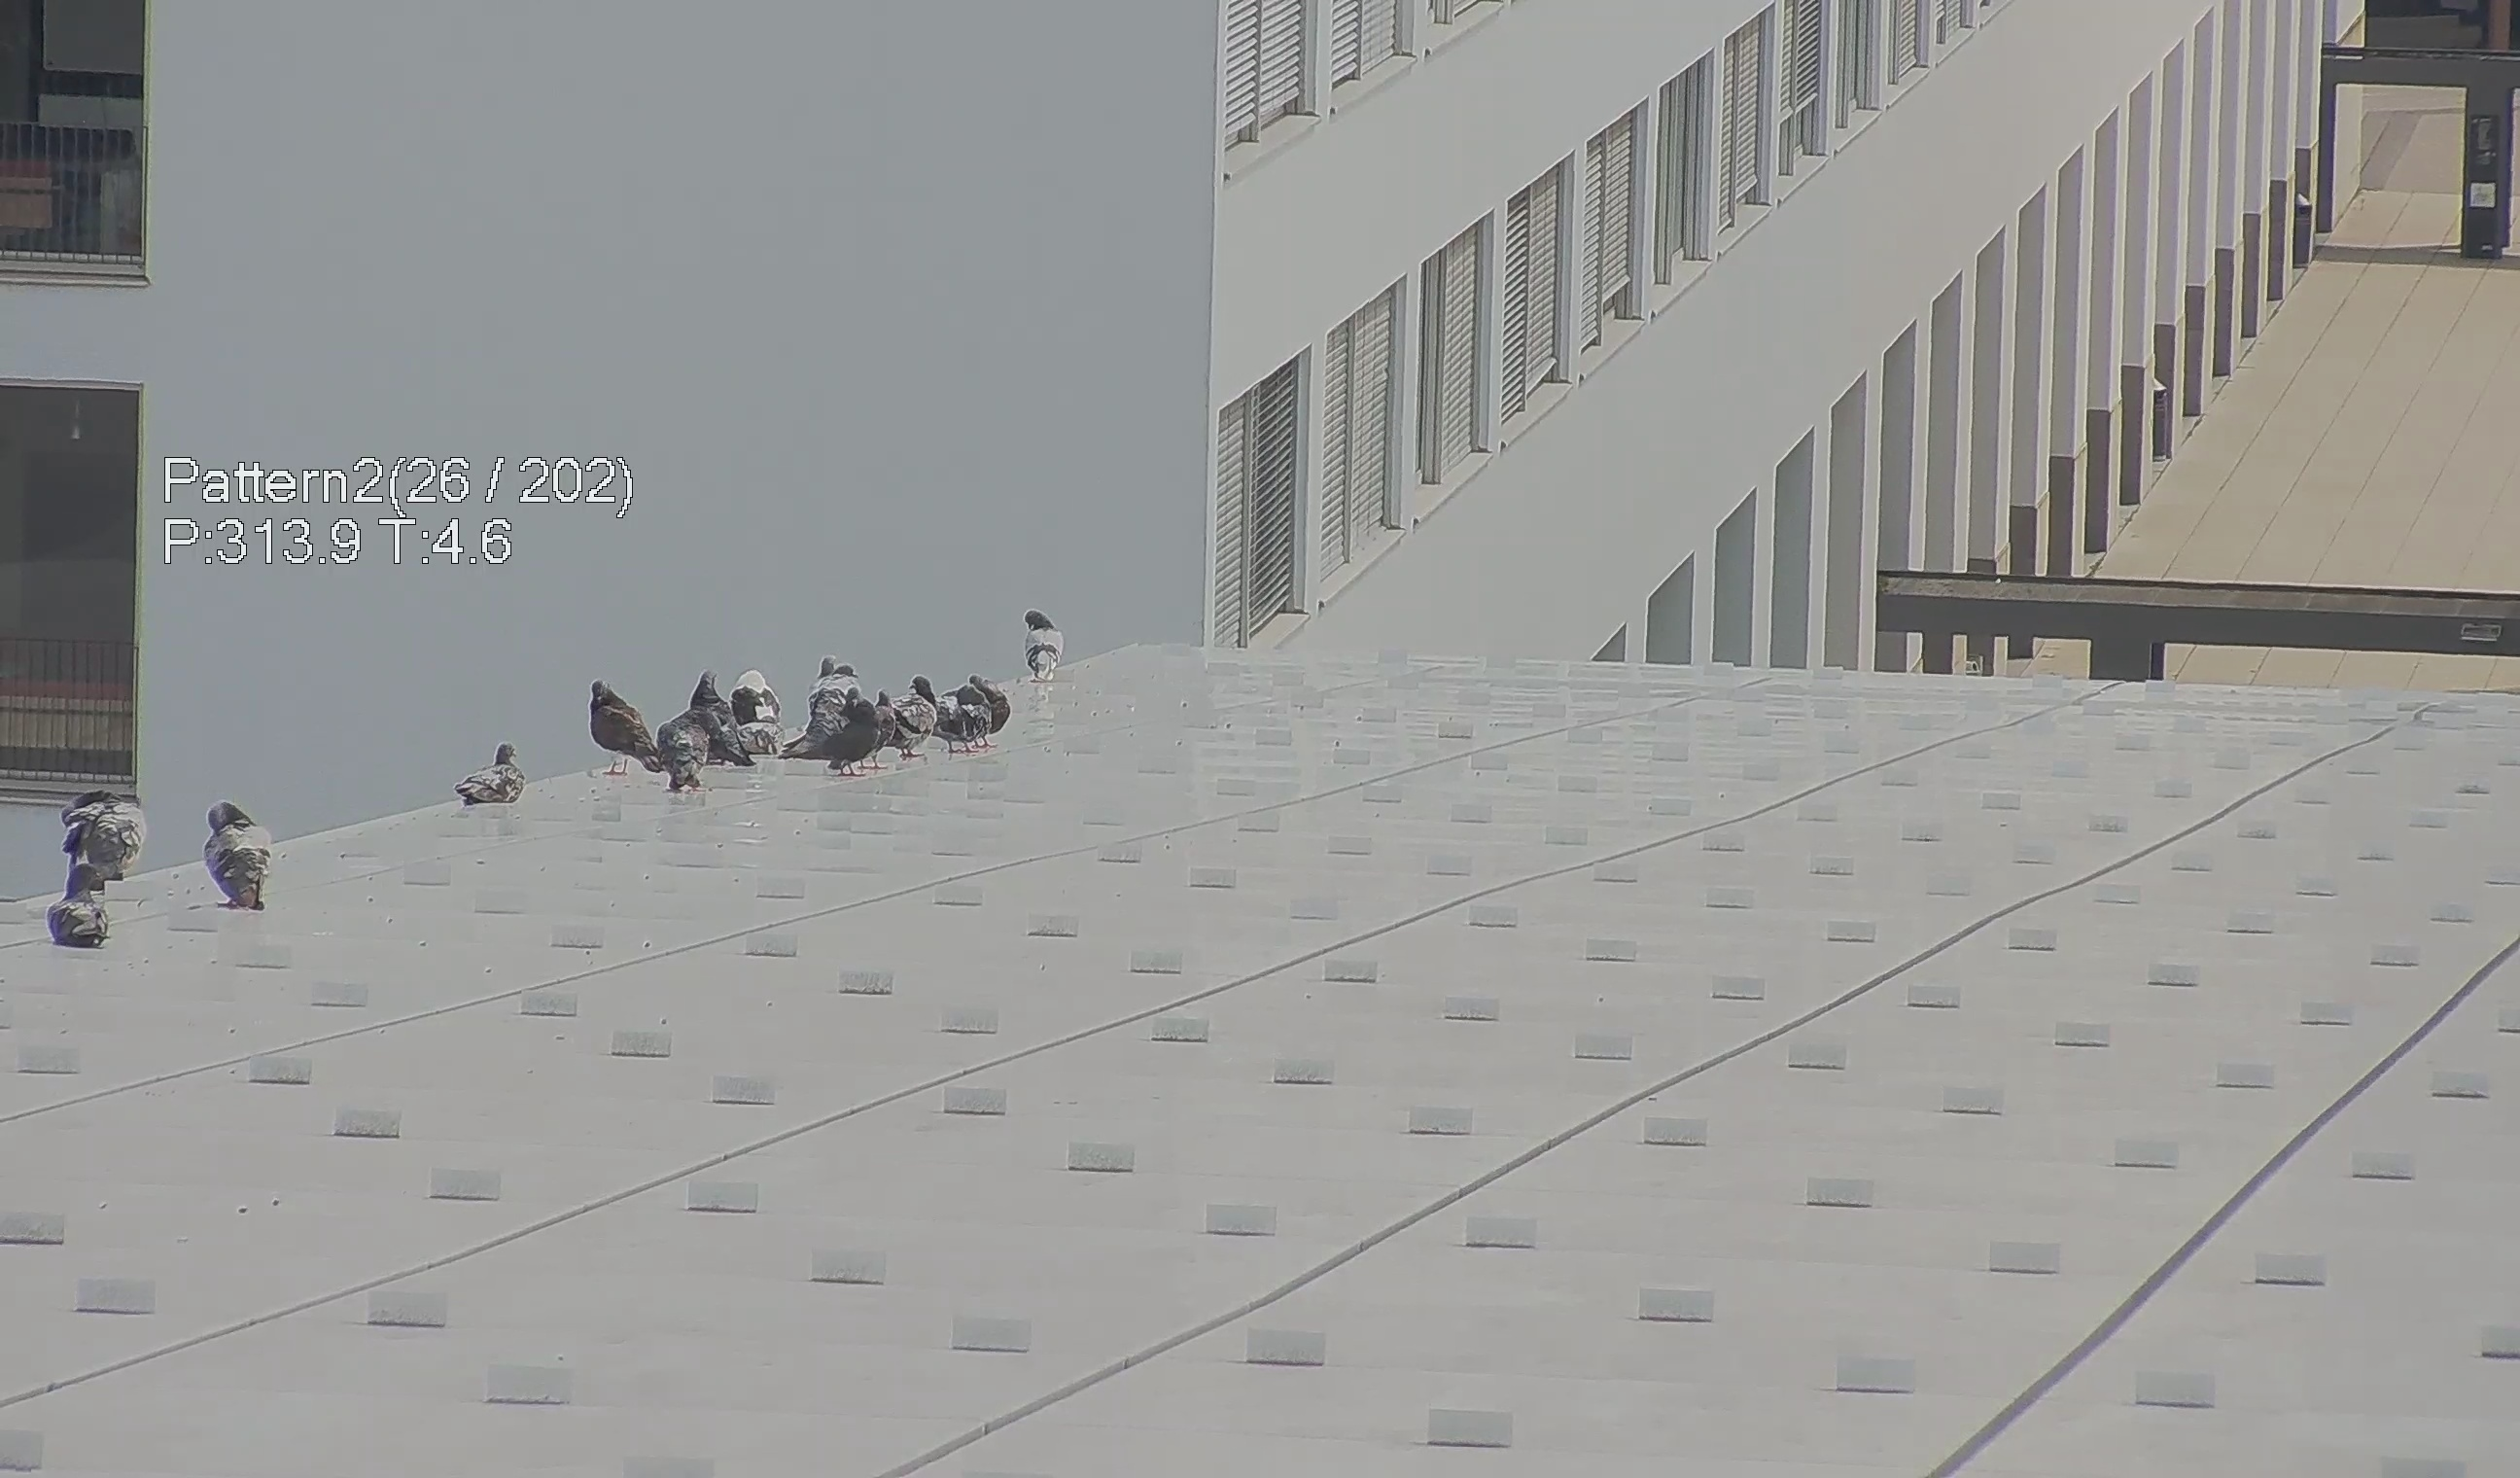Pigeon: (188, 783, 294, 917), (62, 778, 158, 889), (566, 674, 659, 778), (436, 725, 526, 813), (795, 649, 870, 751), (44, 853, 123, 950), (927, 667, 1008, 758), (1009, 602, 1078, 700), (725, 663, 788, 764), (816, 695, 890, 779), (870, 672, 944, 755), (696, 667, 747, 769), (665, 709, 714, 792)
